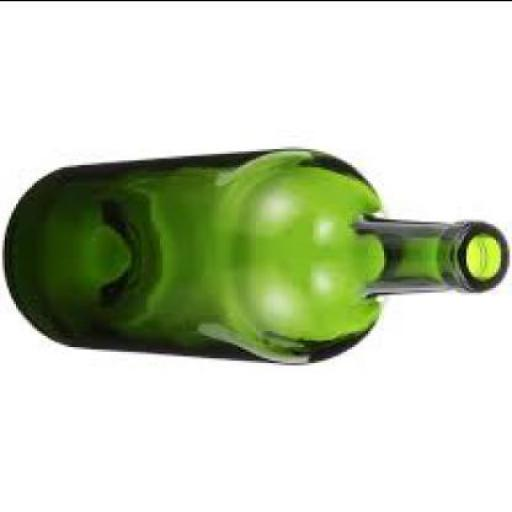glass: (6, 144, 511, 369)
